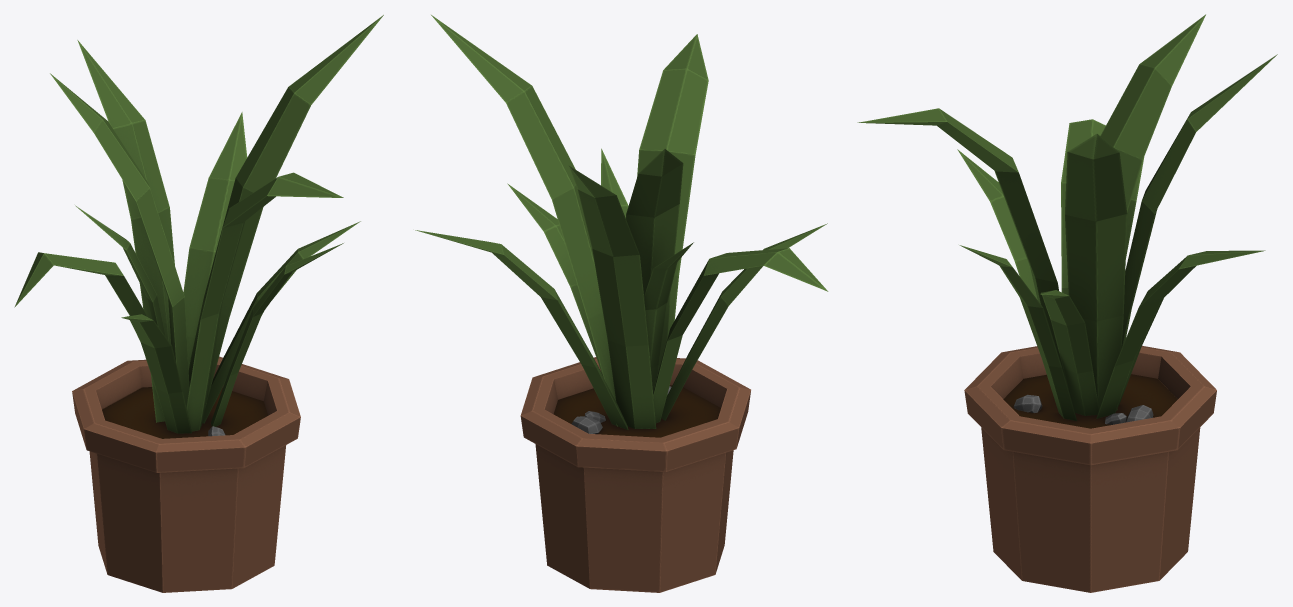
The model's file is tree.glb.
3 views of the same model, side by side, from view 1: azimuth 30°, elevation 25°; view 2: azimuth 150°, elevation 25°; view 3: azimuth 270°, elevation 25° (orthographic). The views are drawn at different scales.
Parts seen in each view (by area): view 1: node-0; view 2: node-0; view 3: node-0.
Part boxes in pixels (<box>): node-0: <box>14,15,383,592</box>; node-0: <box>415,15,828,592</box>; node-0: <box>857,14,1277,592</box>.
Size of the model in its own units: 4.85 by 5.93 by 4.34.
1 material, 1 textured.
